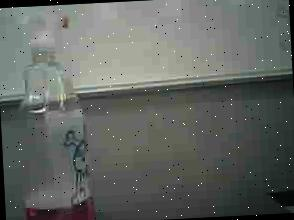hazard: (8, 9, 96, 220)
